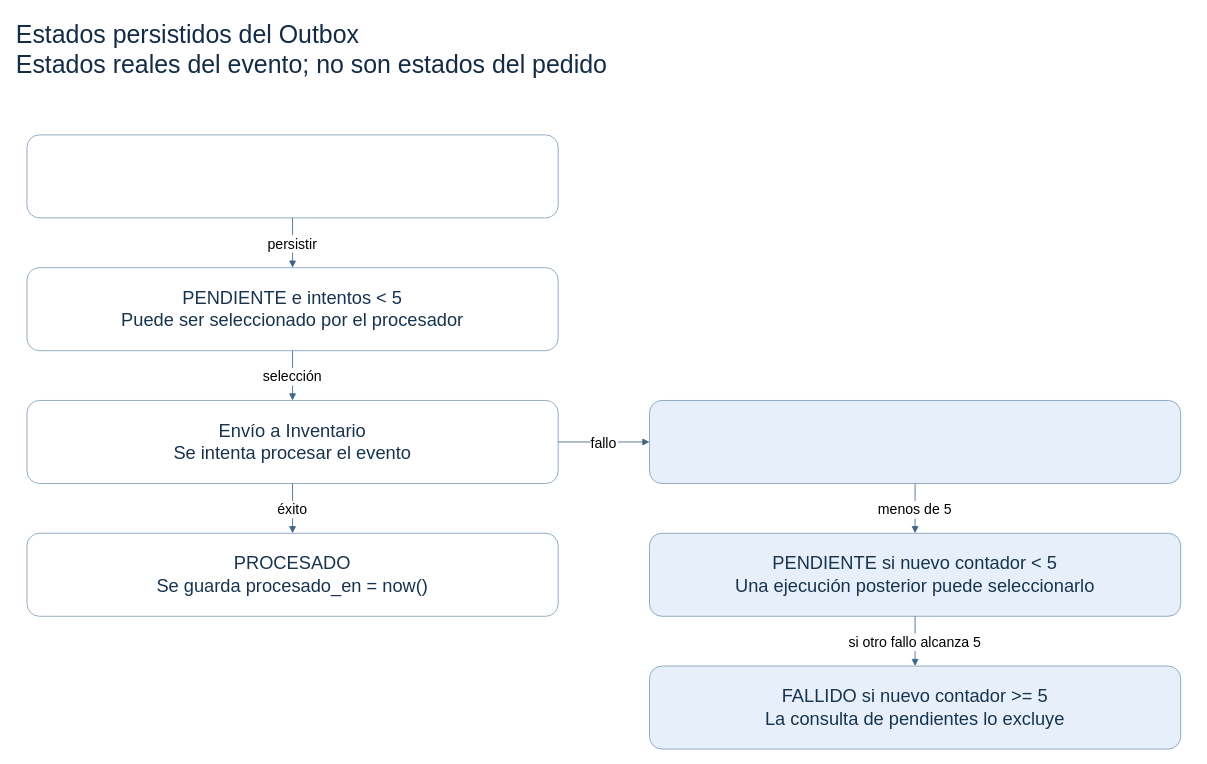
Some shapes in this 1207 by 764 pixel diagram are drawn without their labels. The box of each missing label's shape, as (x1, y1, x2, y2) in pixels:
Creación de factura Inserta evento PENDIENTE: (26, 134, 558, 218)
Excepción intentos = intentos + 1; guarda ultimo_error: (649, 400, 1181, 483)
